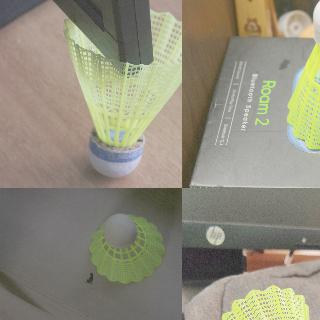shuttlecock: (64, 6, 181, 177), (88, 213, 164, 283), (286, 0, 319, 157), (219, 285, 319, 319)
